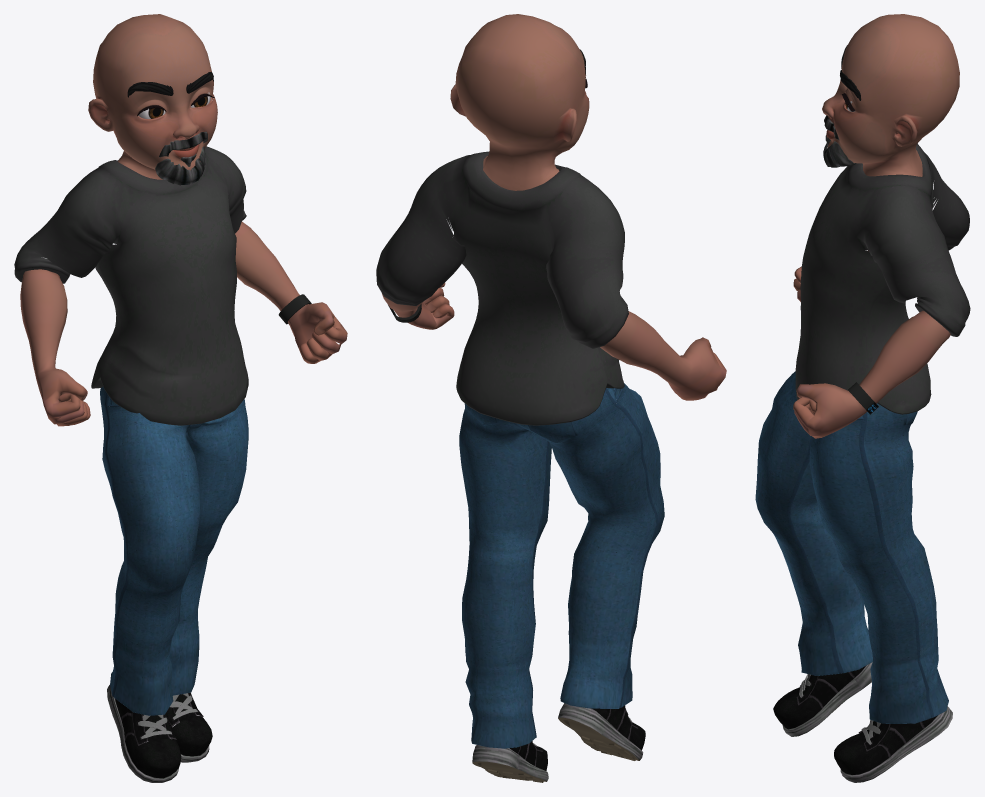
File: juan1.glb
The picture shows the model from 3 angles, left to right: view 1: azimuth 30°, elevation 25°; view 2: azimuth 150°, elevation 25°; view 3: azimuth 270°, elevation 25°; orthographic projection. The views are drawn at different scales.
Visible parts, largest first — view 1: SubMesh_9, SubMesh_10, SubMesh_1, SubMesh_0, SubMesh_12, SubMesh_11, SubMesh_3; view 2: SubMesh_10, SubMesh_9, SubMesh_1, SubMesh_0, SubMesh_12, SubMesh_11; view 3: SubMesh_10, SubMesh_9, SubMesh_1, SubMesh_0, SubMesh_11, SubMesh_12, SubMesh_3, SubMesh_4.
Part boxes in pixels (left/top/right/bottom): SubMesh_9: left=14, top=146, right=248, bottom=425; SubMesh_10: left=100, top=386, right=248, bottom=715; SubMesh_1: left=88, top=14, right=217, bottom=179; SubMesh_0: left=20, top=164, right=347, bottom=426; SubMesh_12: left=107, top=685, right=181, bottom=782; SubMesh_11: left=166, top=692, right=212, bottom=762; SubMesh_3: left=155, top=131, right=207, bottom=185; SubMesh_10: left=459, top=383, right=664, bottom=748; SubMesh_9: left=376, top=151, right=628, bottom=425; SubMesh_1: left=450, top=14, right=589, bottom=190; SubMesh_0: left=382, top=171, right=726, bottom=400; SubMesh_12: left=558, top=703, right=645, bottom=760; SubMesh_11: left=472, top=741, right=548, bottom=782; SubMesh_10: left=755, top=371, right=948, bottom=723; SubMesh_9: left=795, top=143, right=970, bottom=414; SubMesh_1: left=822, top=14, right=959, bottom=176; SubMesh_0: left=793, top=250, right=950, bottom=438; SubMesh_11: left=834, top=706, right=952, bottom=782; SubMesh_12: left=773, top=662, right=872, bottom=736; SubMesh_3: left=823, top=115, right=856, bottom=167; SubMesh_4: left=848, top=382, right=878, bottom=414.
Bounding box in the file's own units: 0.7314 × 1.69 × 0.4406.
15 materials, 15 textured.
